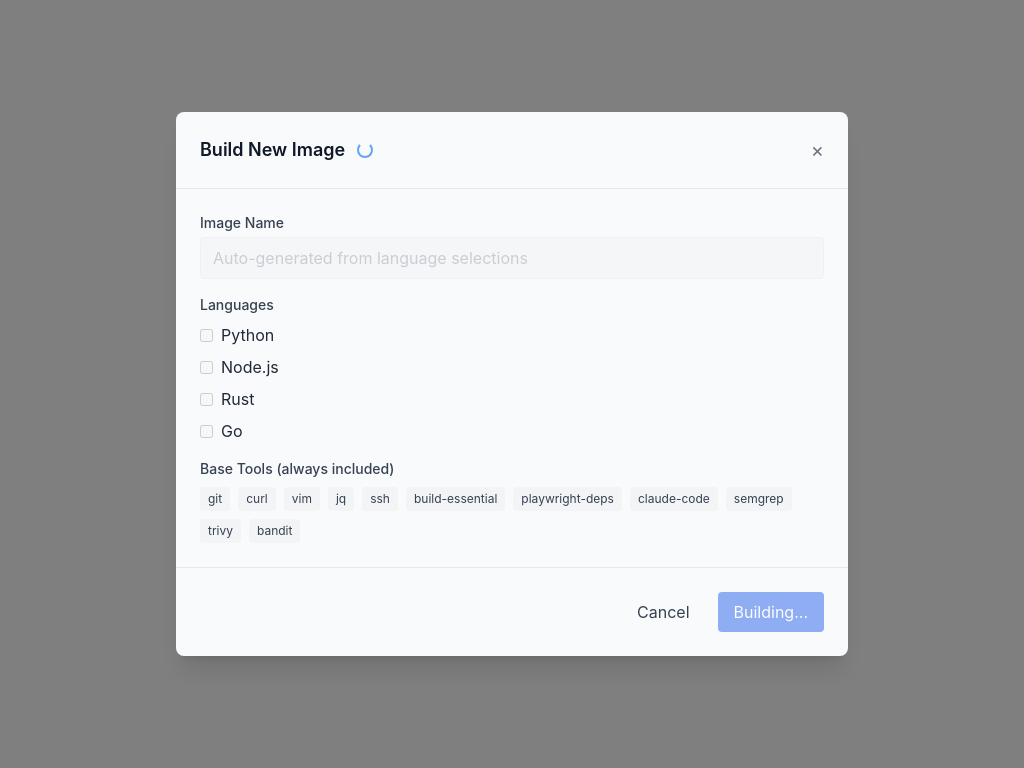
it: ImageBuilderDialog › "Stay" dismisses the confirmation without closing
The width and height of the screenshot is (1024, 768).
Click the button named "Close dialog".
click(817, 150)  # box top-left (811, 140), bottom-right (824, 160)
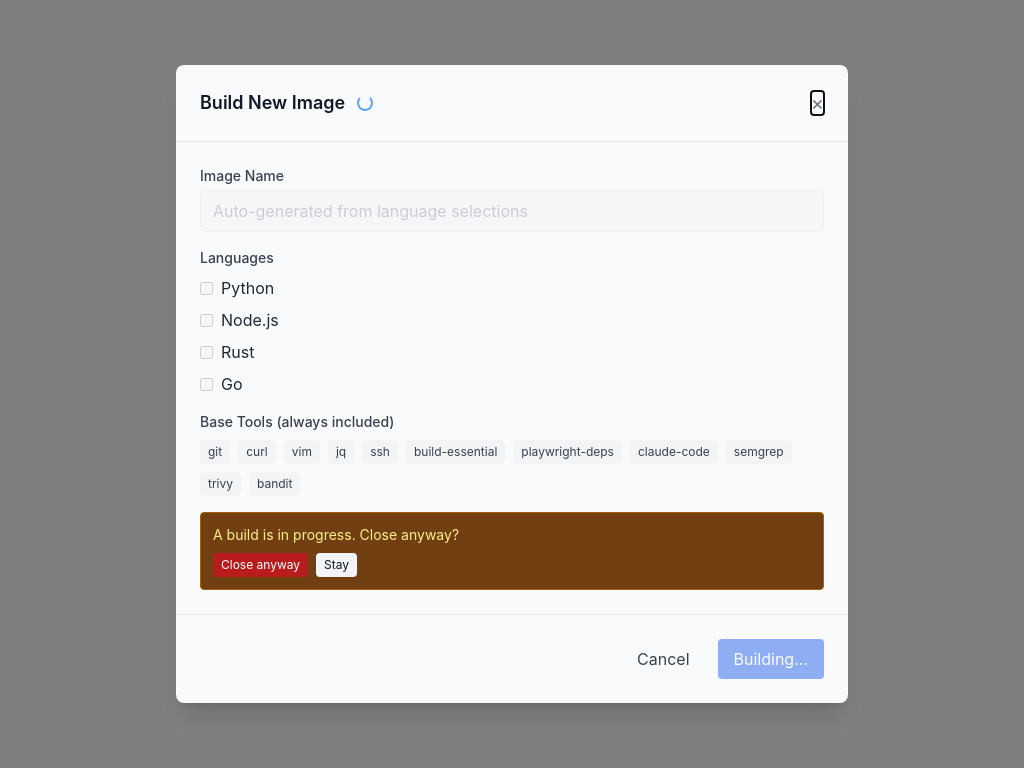
Result: the text "A build is in progress. Close anyway?" is shown at top-left (213, 526), bottom-right (459, 543)
Click the button "Stay".
click(337, 565)  # box top-left (316, 553), bottom-right (357, 577)
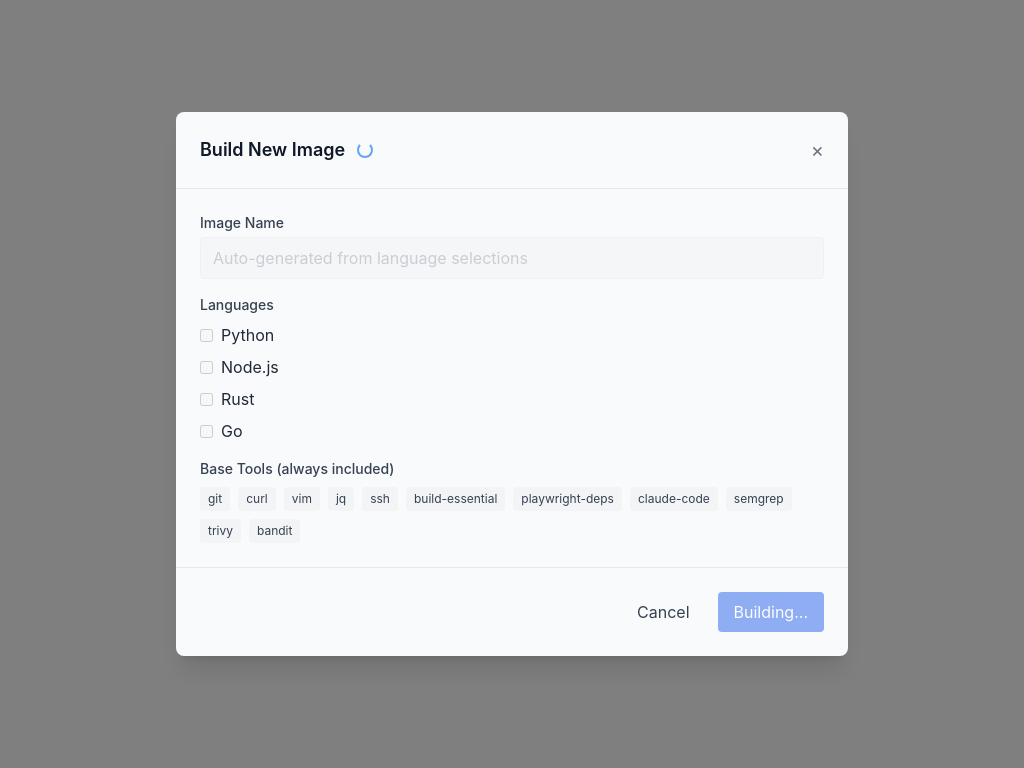
Result: the text "A build is in progress" is gone
